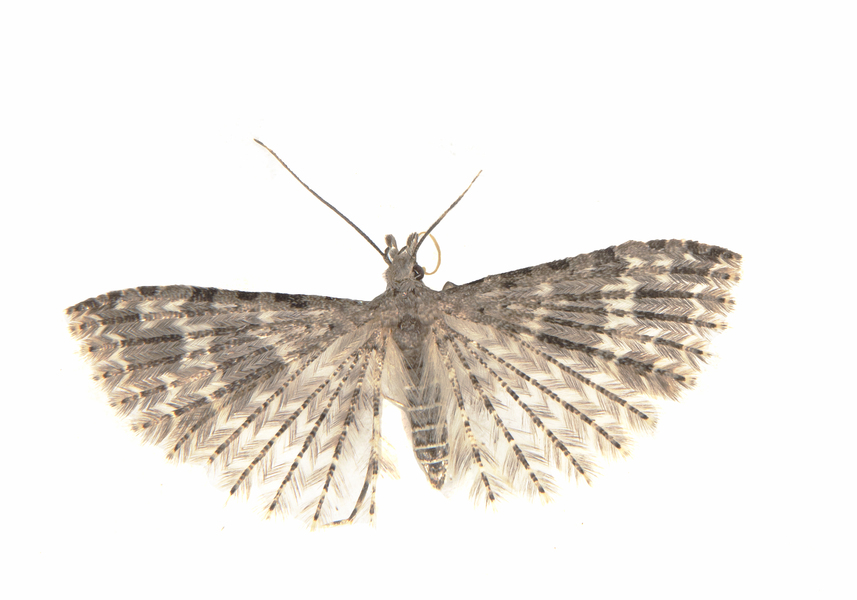Alucitidae: (50, 128, 750, 533)
moth: (48, 126, 748, 531)
